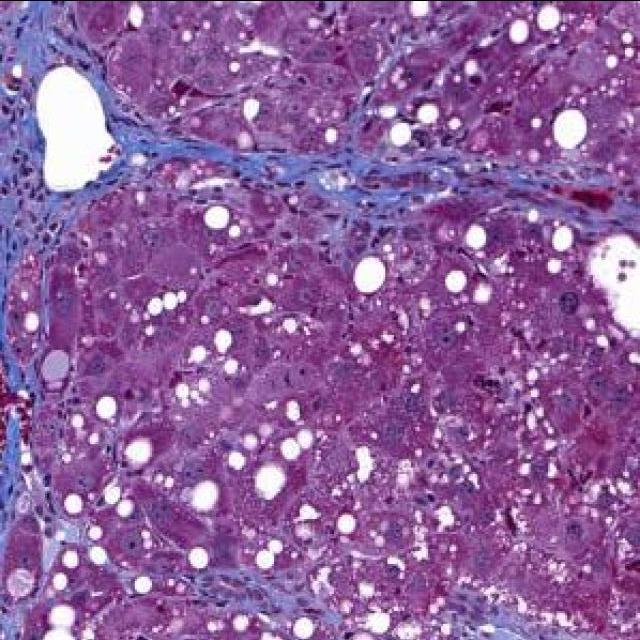fibrosis: (118, 125, 640, 232), (1, 0, 58, 549), (38, 161, 154, 238), (35, 0, 114, 111)
